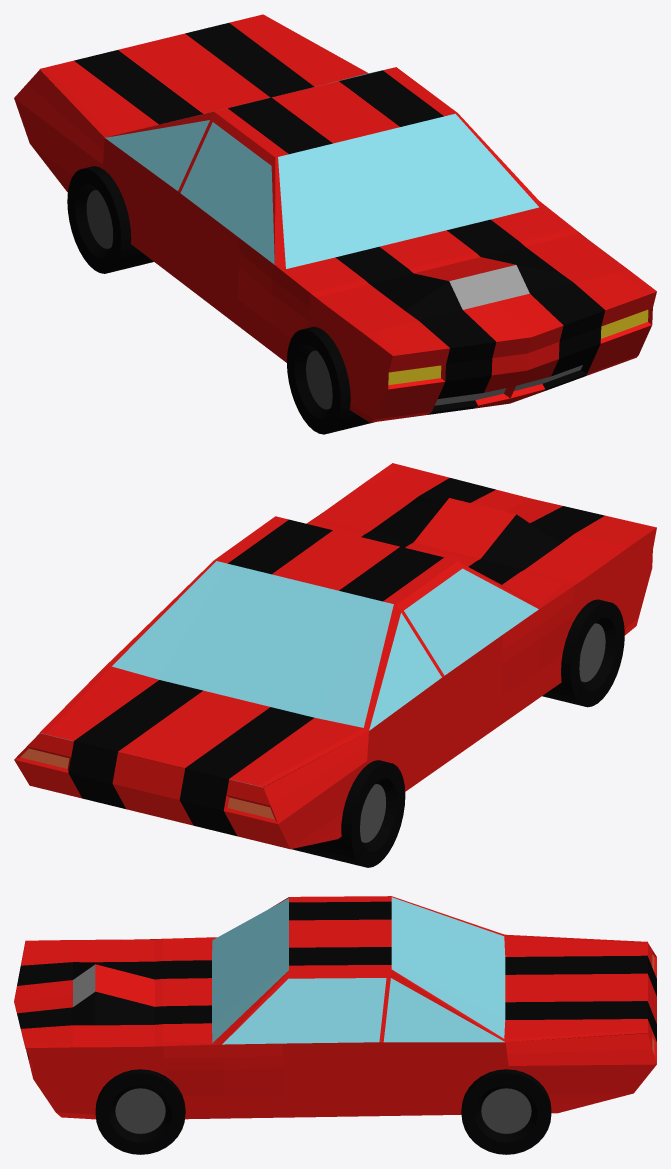
Rendered from car.glb.
3 renders of one model, top to bottom at view 1: azimuth 30°, elevation 25°; view 2: azimuth 150°, elevation 25°; view 3: azimuth 270°, elevation 25°, orthographic. The views are drawn at different scales.
Visible parts, largest first — view 1: Cube, Cylinder.001, Cylinder; view 2: Cube, Cylinder.001, Cylinder; view 3: Cube, Cylinder.001, Cylinder.
Part boxes in pixels (box(x1,y1,x2,y2)): Cube: box(14, 14, 656, 422); Cylinder.001: box(67, 166, 153, 273); Cylinder: box(287, 326, 373, 434); Cube: box(14, 463, 656, 849); Cylinder.001: box(291, 760, 405, 867); Cylinder: box(542, 599, 624, 707); Cube: box(14, 896, 656, 1119); Cylinder.001: box(461, 1069, 551, 1154); Cylinder: box(95, 1069, 185, 1154).
Bounding box in the file's own units: 1.67 × 1.1 × 3.91.
